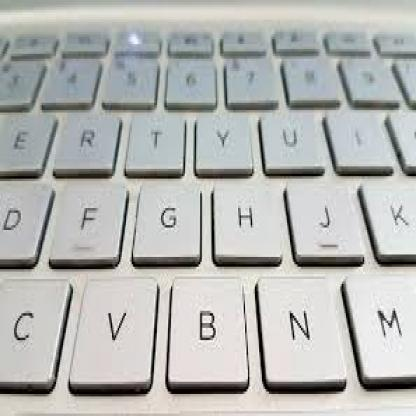keyboard: (0, 34, 416, 416)
